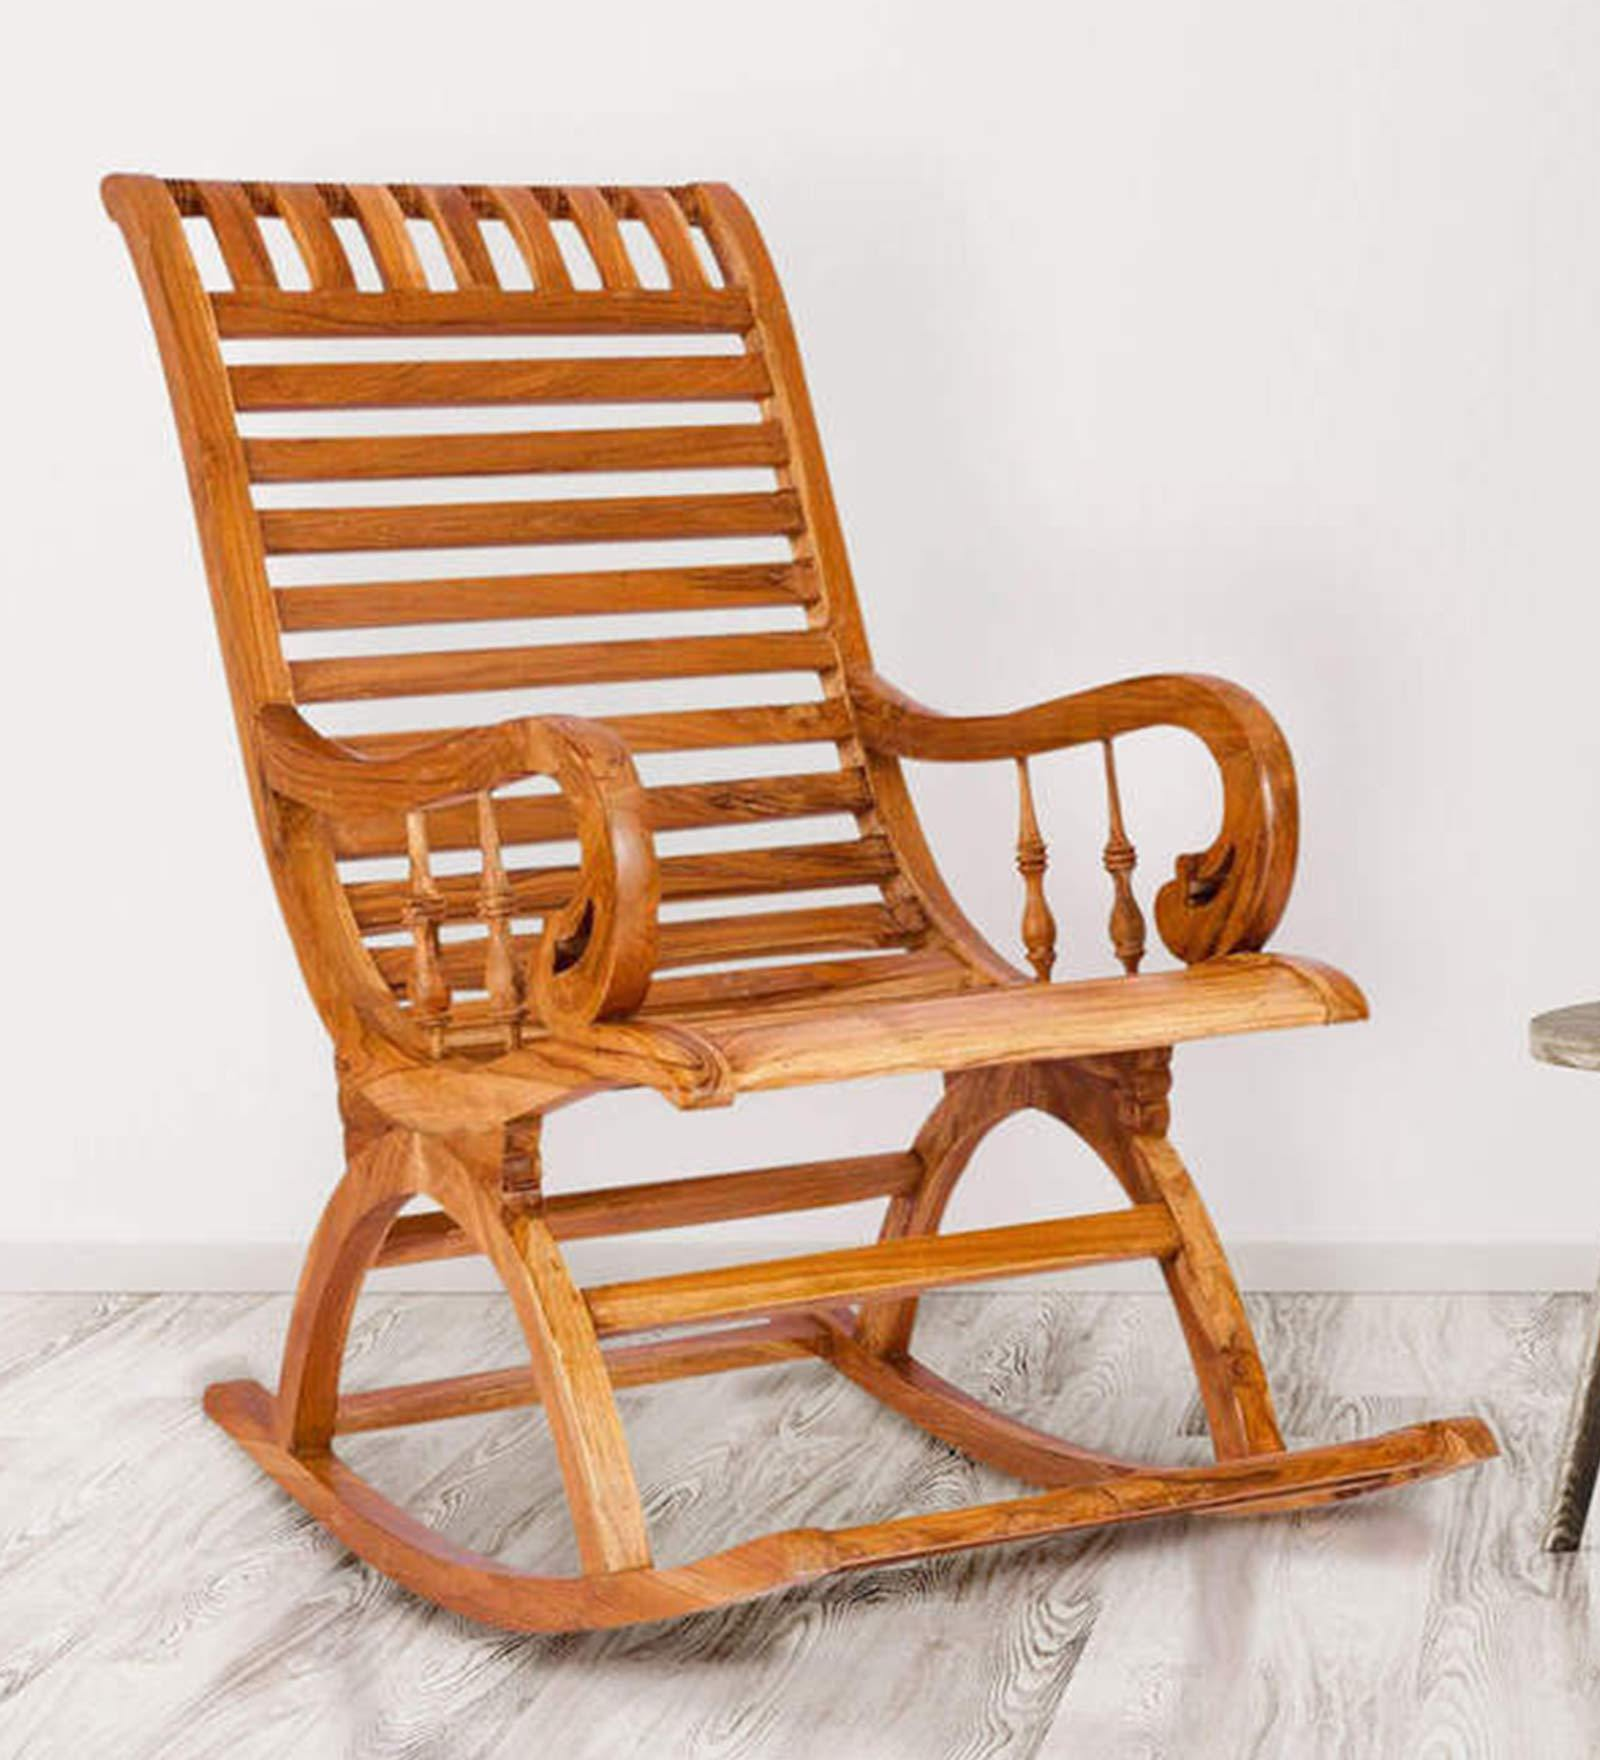Teak Wood Rocking Chair in Light Teak Finish by Karigar: (66, 123, 1530, 1673)
